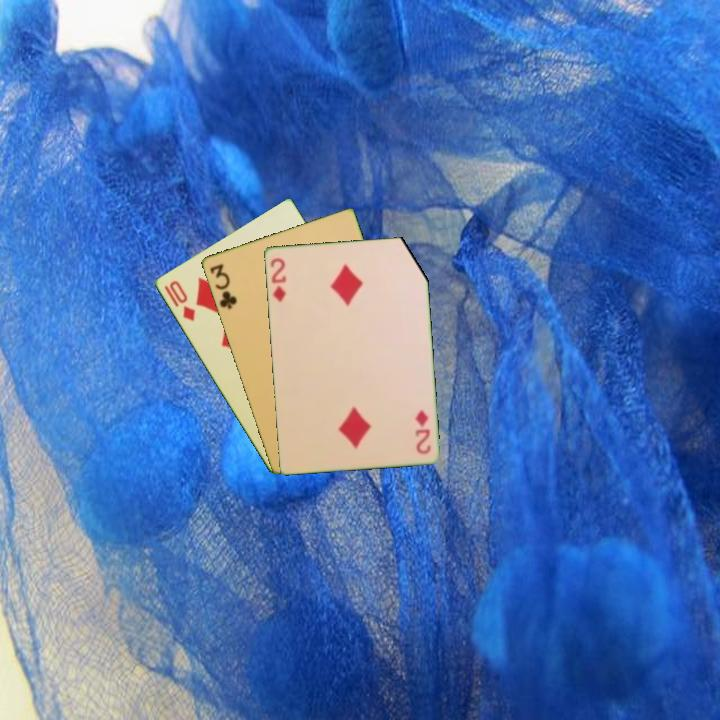10d: (165, 277, 198, 324)
2d: (411, 406, 433, 457), (267, 254, 288, 304)
3c: (206, 260, 240, 312)
